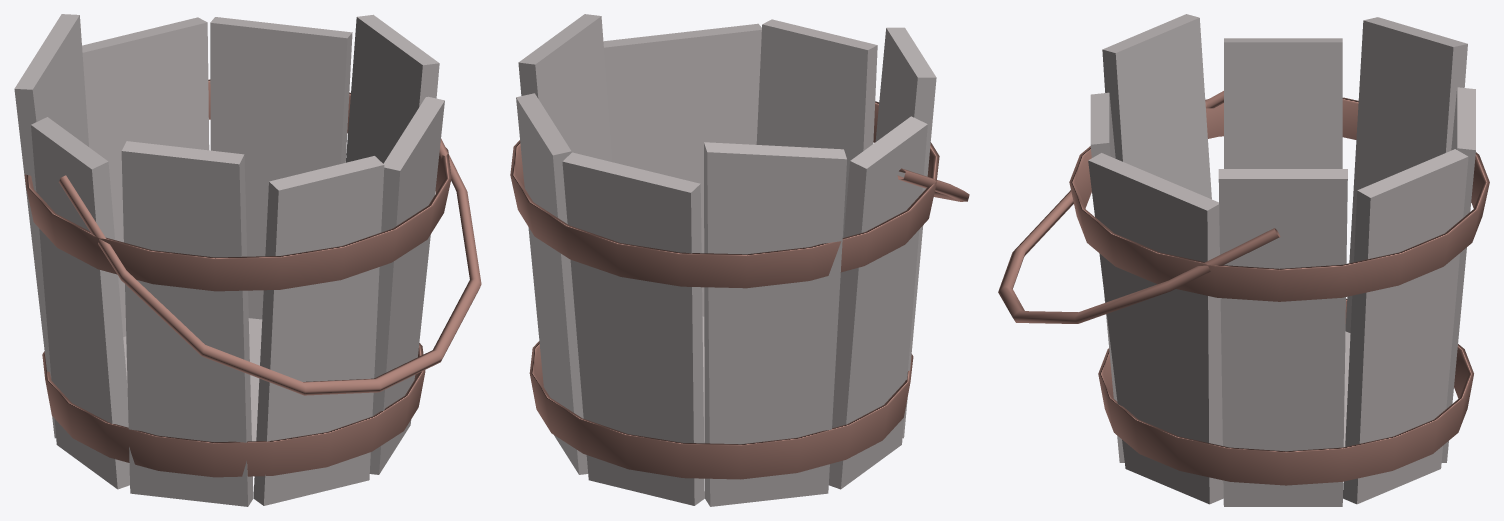
The model's file is bucket_mesh_v01.fbx.
3 views of the same model, side by side, from view 1: azimuth 30°, elevation 25°; view 2: azimuth 150°, elevation 25°; view 3: azimuth 270°, elevation 25° (orthographic). The views are drawn at different scales.
Visible parts, largest first — view 1: bucket_mesh_v01; view 2: bucket_mesh_v01; view 3: bucket_mesh_v01.
Boxes of the visible parts, left/top/right/bottom form: bucket_mesh_v01: left=14, top=14, right=481, bottom=506; bucket_mesh_v01: left=510, top=14, right=969, bottom=506; bucket_mesh_v01: left=998, top=14, right=1489, bottom=506.
Size of the model in its own units: 52.99 by 50.04 by 62.04.
